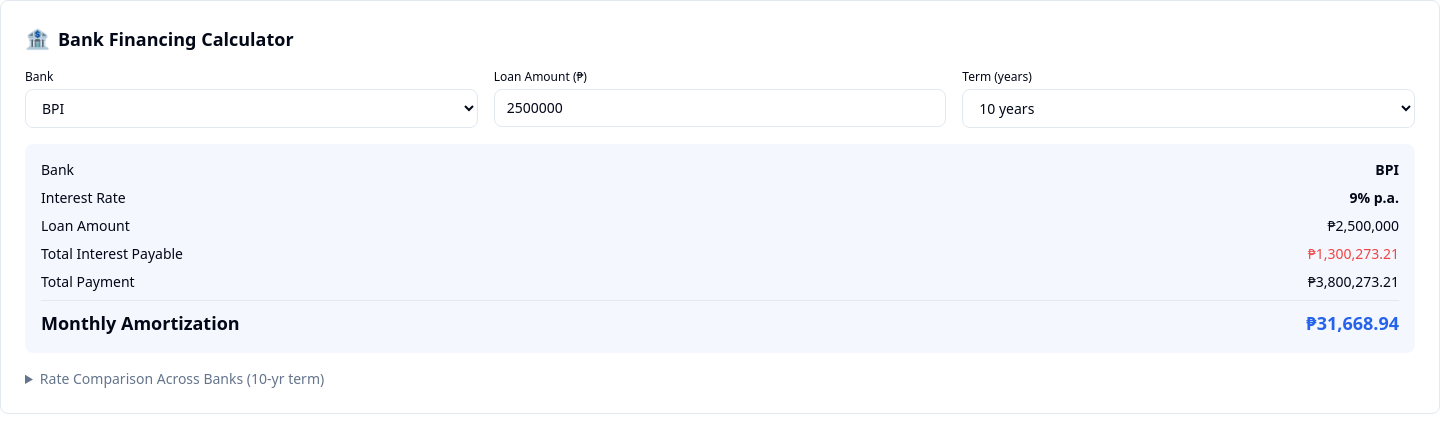
BankCalculator › updates results when loan amount changes
Step 1. Replace the text in the number field showing "2500000" with "5000000" → (720,108), box [494, 89, 946, 127]
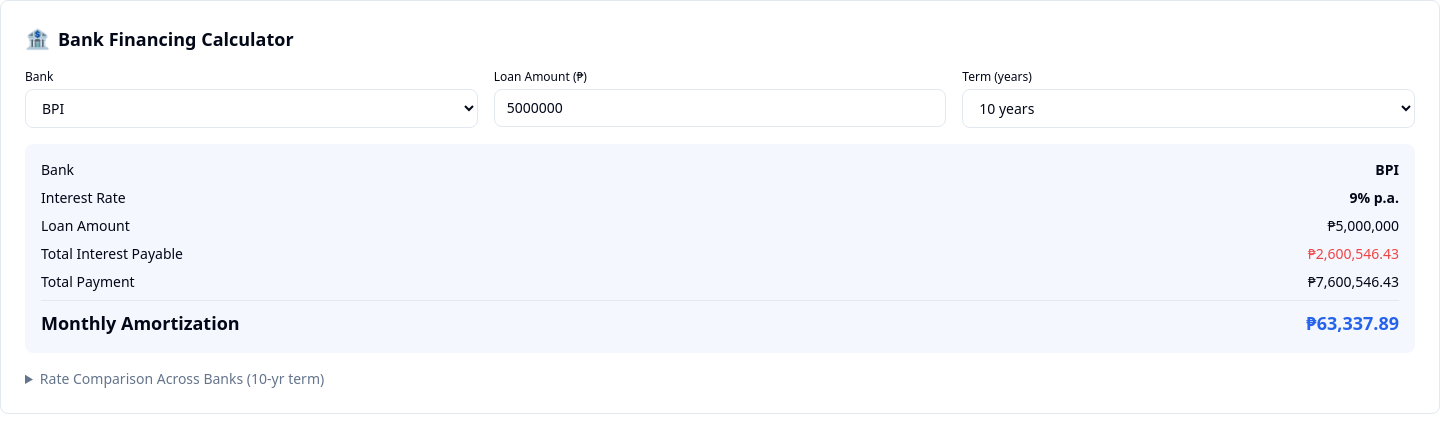
Expected: the text "₱5,000,000" is shown, [1327, 216, 1399, 236]
